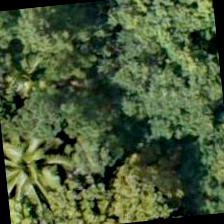Kelapa_Sawit: (1, 119, 78, 216)
